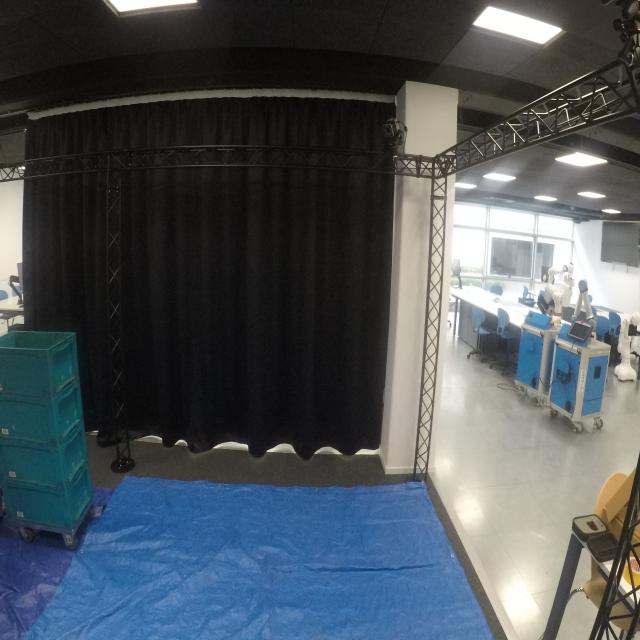BoxB4: (0, 329, 80, 395), (0, 476, 97, 525), (0, 438, 88, 487), (0, 393, 84, 440)
